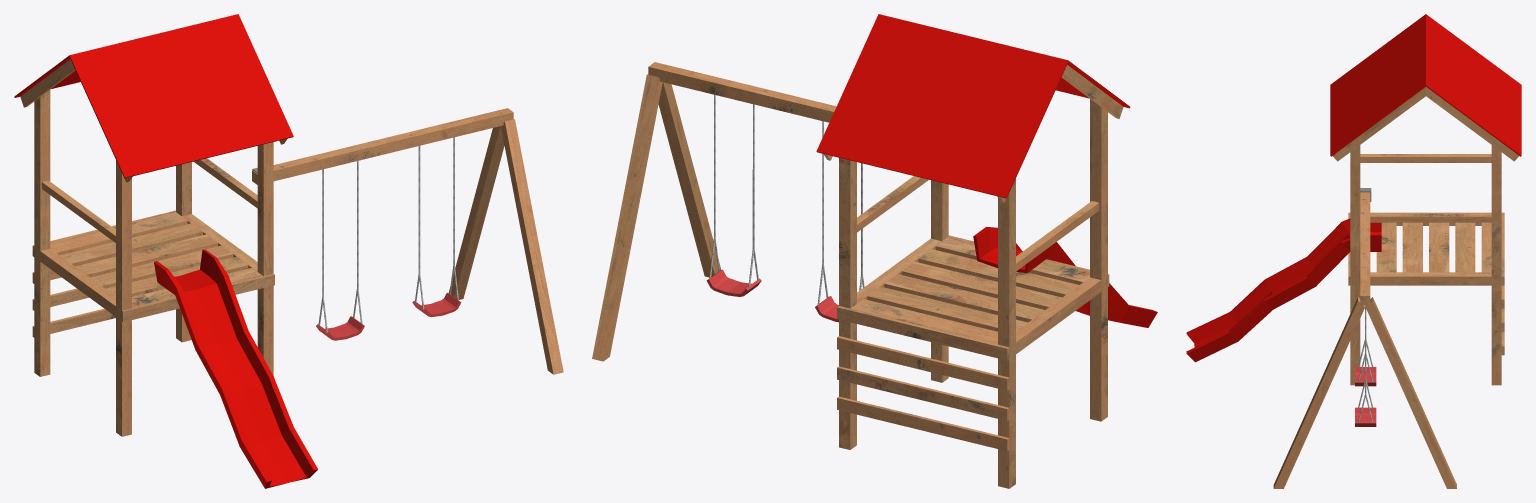
Rendered from Playground_v2.fbx.
The picture shows the model from 3 angles, left to right: view 1: azimuth 30°, elevation 25°; view 2: azimuth 150°, elevation 25°; view 3: azimuth 270°, elevation 25°; orthographic projection. The views are drawn at different scales.
Parts seen in each view (by area): view 1: Planks, Roof, Slide, Ropes_2, Ropes, Swing, Swing_2; view 2: Planks, Roof, Slide, Ropes_2, Swing_2, Ropes; view 3: Planks, Roof, Slide, Swing_2, Ropes_2, Swing.
Part boxes in pixels (x1,y1,x2,y2): Planks: [20, 59, 563, 436]; Roof: [14, 14, 293, 178]; Slide: [154, 249, 317, 488]; Ropes_2: [414, 137, 458, 309]; Ropes: [318, 161, 362, 332]; Swing: [316, 316, 364, 340]; Swing_2: [412, 292, 461, 317]; Planks: [592, 62, 1123, 488]; Roof: [816, 14, 1130, 198]; Slide: [973, 227, 1157, 327]; Ropes_2: [709, 94, 758, 288]; Swing_2: [706, 269, 761, 296]; Ropes: [817, 121, 864, 304]; Planks: [1273, 87, 1518, 488]; Roof: [1330, 14, 1521, 156]; Slide: [1186, 218, 1381, 362]; Swing_2: [1355, 407, 1376, 426]; Ropes_2: [1358, 305, 1373, 422]; Swing: [1355, 367, 1376, 386].
Bounding box in the file's own units: 4.02 × 3.33 × 3.33.
